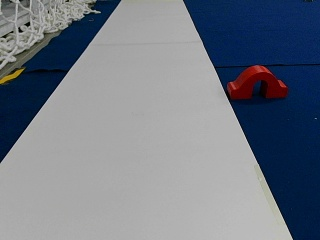bridge: (228, 66, 287, 97)
